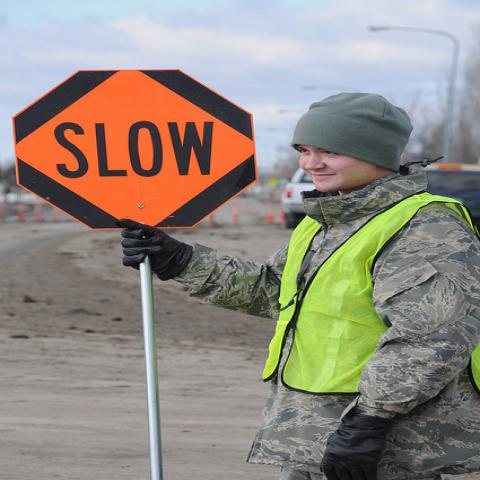car: (279, 167, 315, 230)
